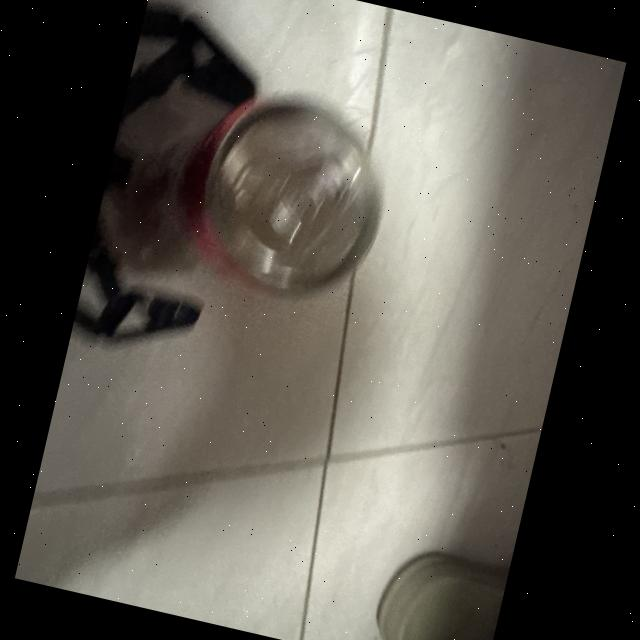Cola: (118, 54, 422, 328)
